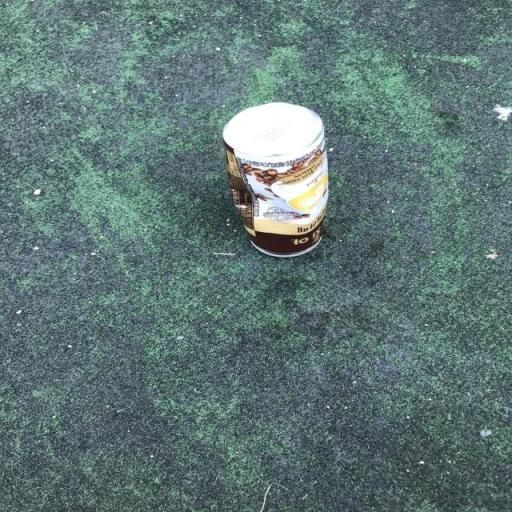metal: (208, 92, 354, 294)
